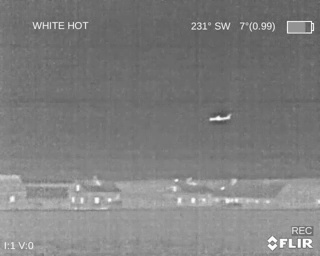AIRPLANE: (207, 113, 232, 123)
